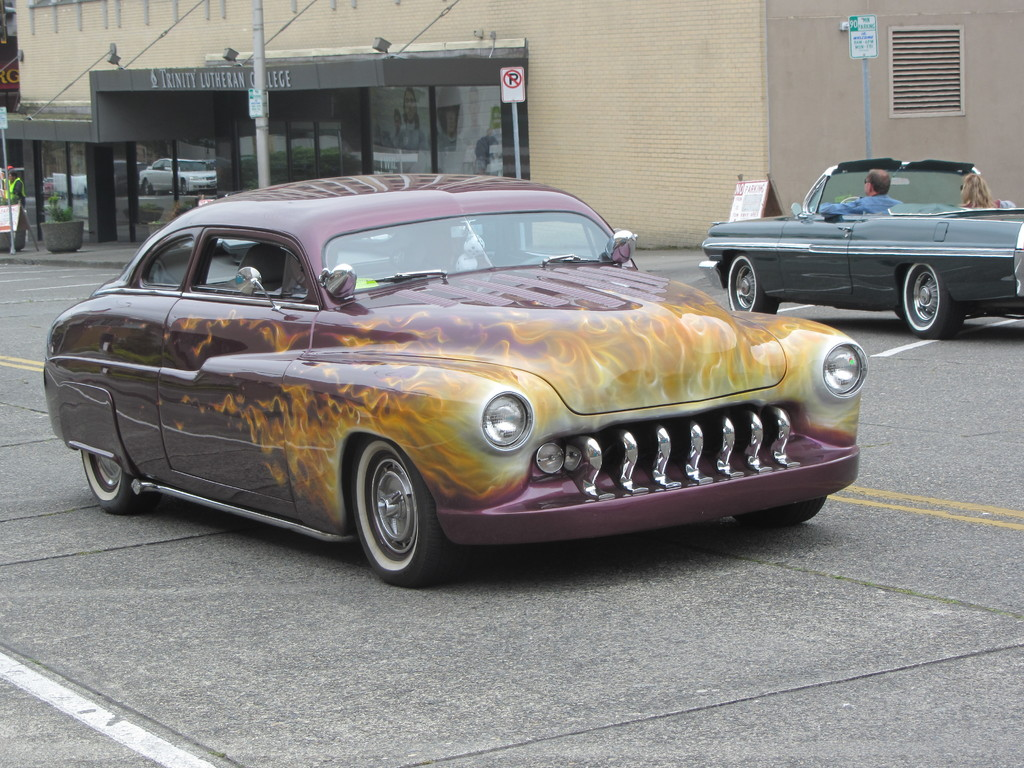Car: (42, 197, 853, 581), (697, 161, 1023, 334)
